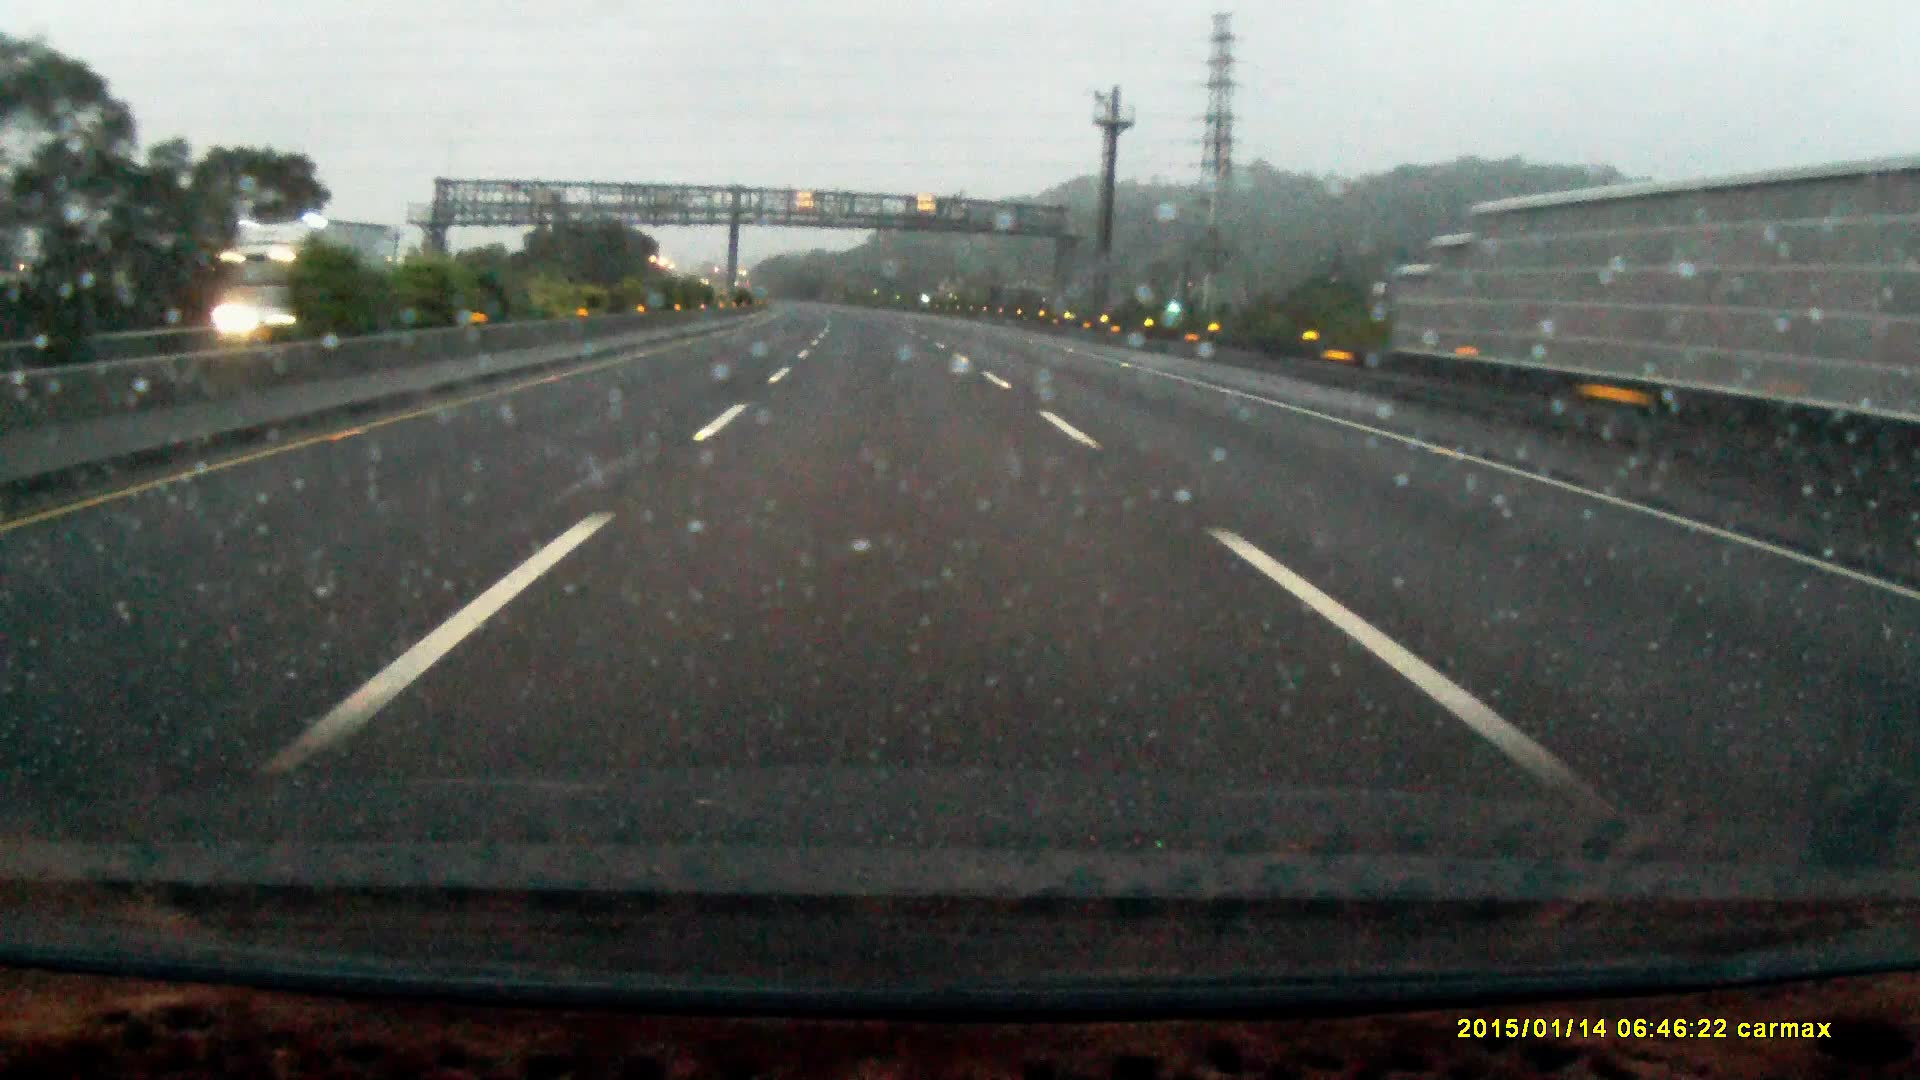vehicle: (212, 223, 388, 330), (227, 287, 318, 343)
